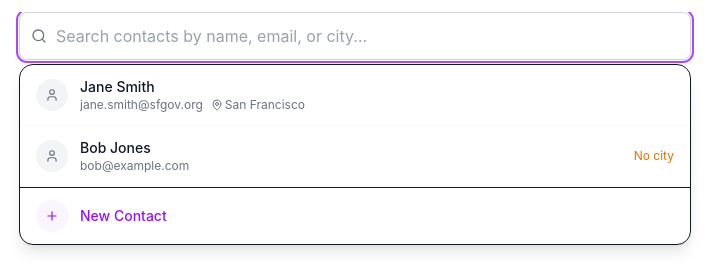
Test case: ComposePageContent › filters contacts by search query
Type "jane" into the field with placeholder "Search contacts by name, email, or city...".
click(355, 36); type("jane")  # box top-left (19, 12), bottom-right (691, 60)
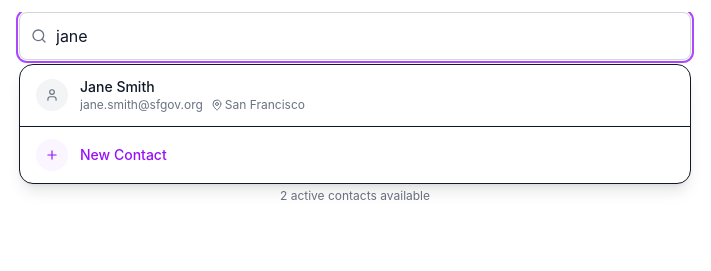
expect the text "Jane Smith" is shown: met, box top-left (80, 78), bottom-right (155, 95)
expect the button "Bob Jones" is gone: met
